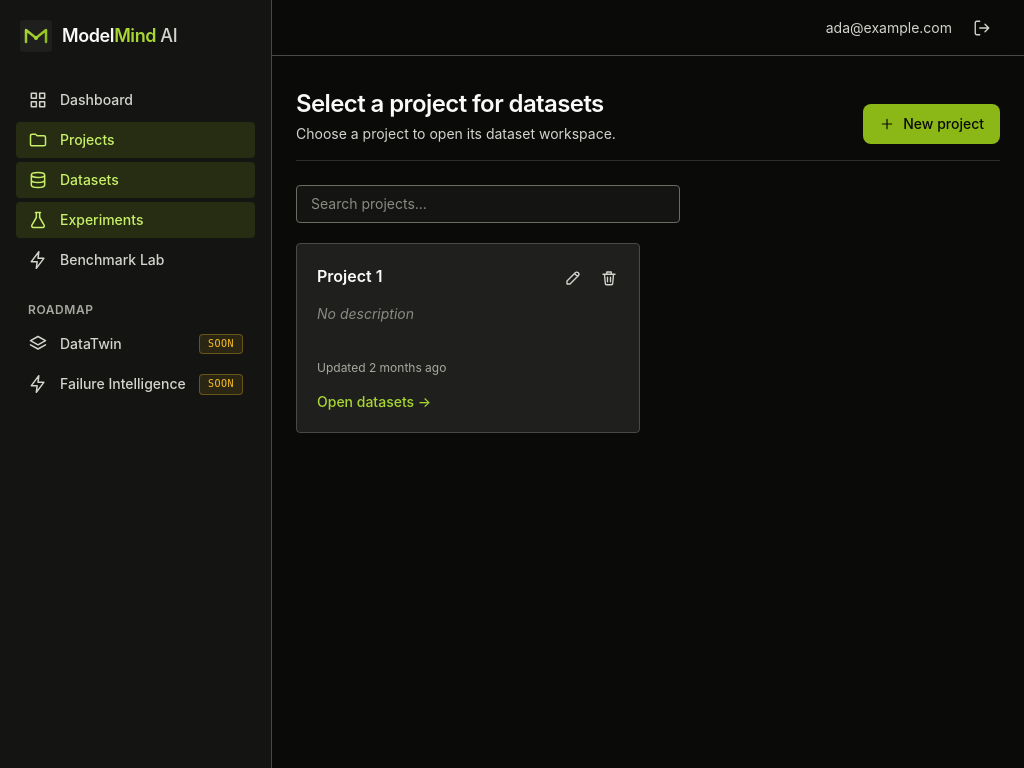
Test: Projects page › blocks an empty name locally and shows server validation errors
Click the button "New project".
click(932, 124)  # box [863,104,1000,144]
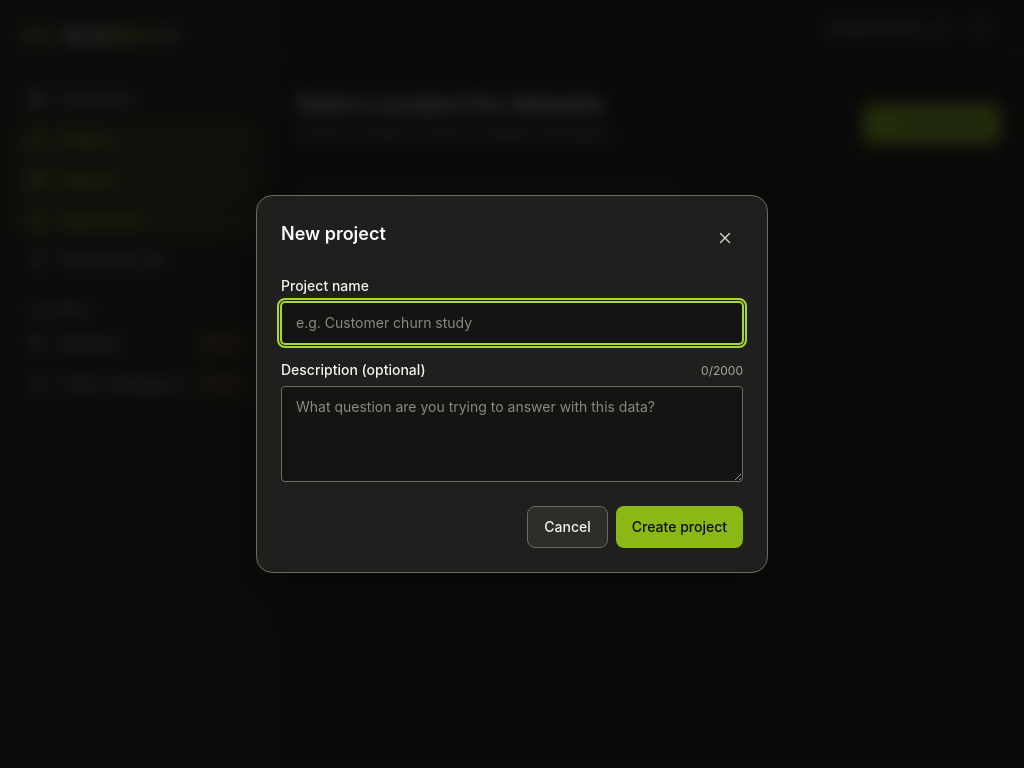
Click the button "Create project".
click(679, 527)  # box [616,506,743,548]
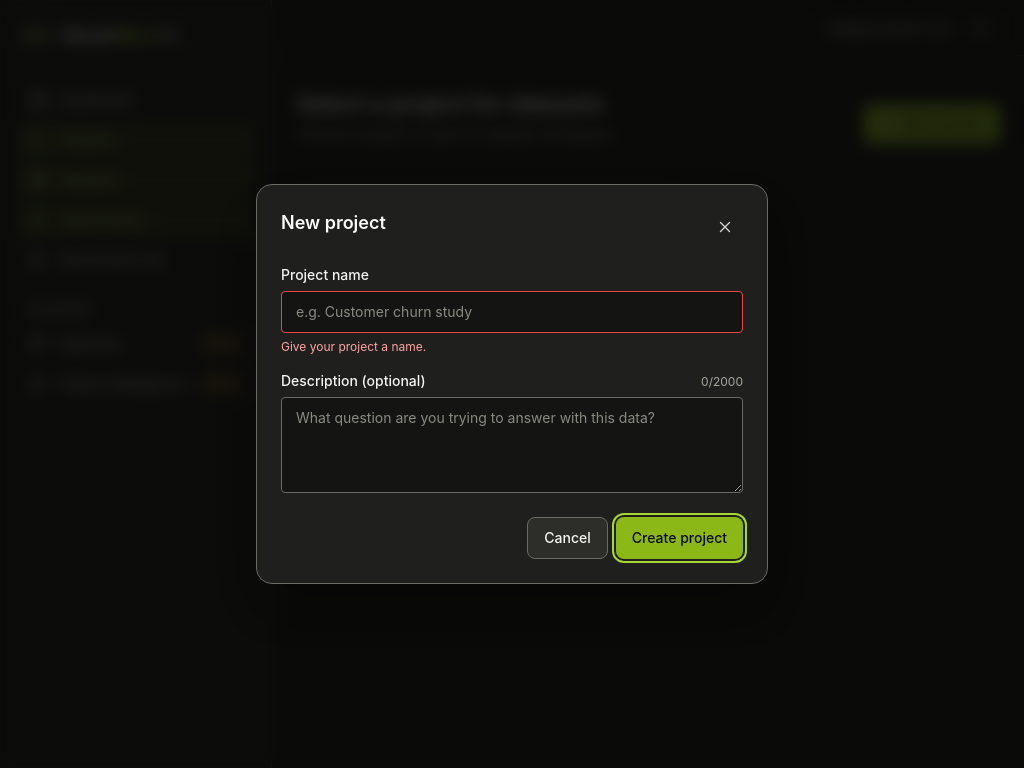
Now the text "Give your project a name." is shown, box [281,339,426,354]
Type "Valid name" into the field labelled "Project name".
click(512, 312); type("Valid name")  # box [281,291,743,333]
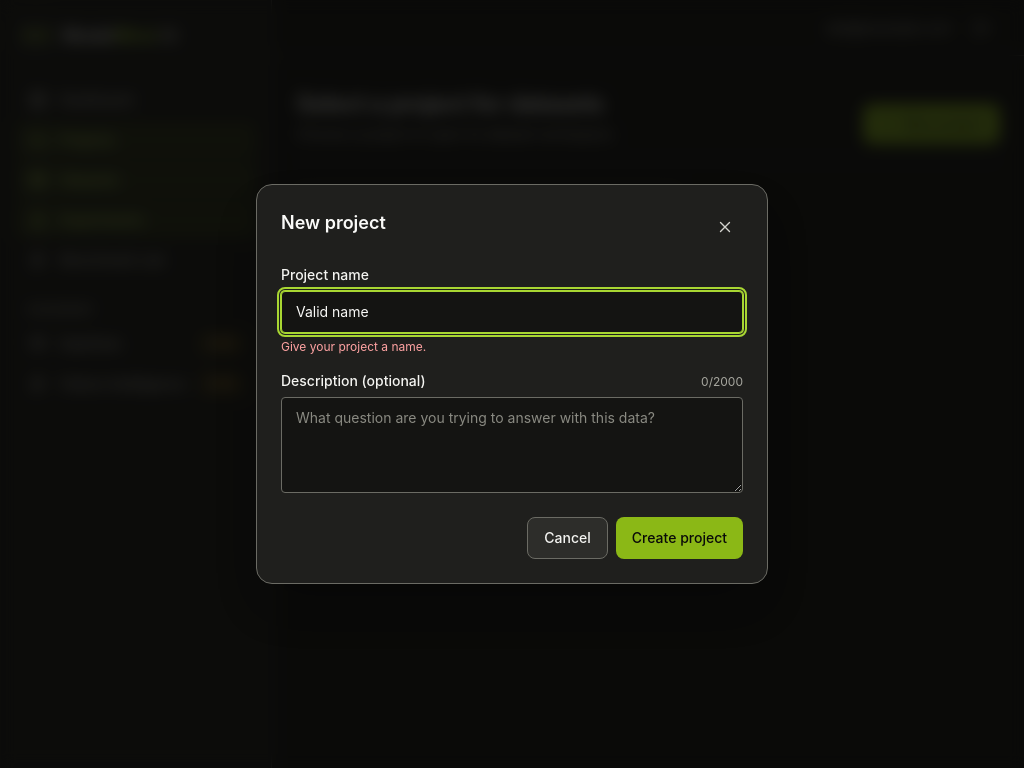
Click the button "Create project".
click(679, 538)  # box [616,517,743,559]
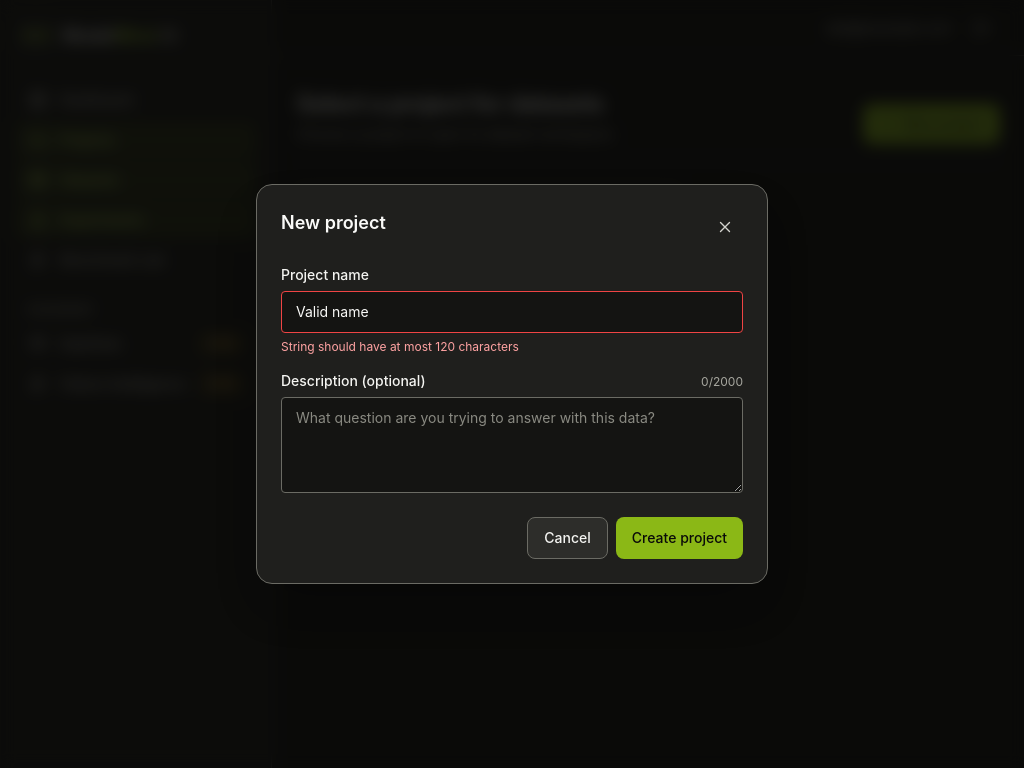
Now the text "String should have at most 120 characters" is shown, box [281,339,519,354]
